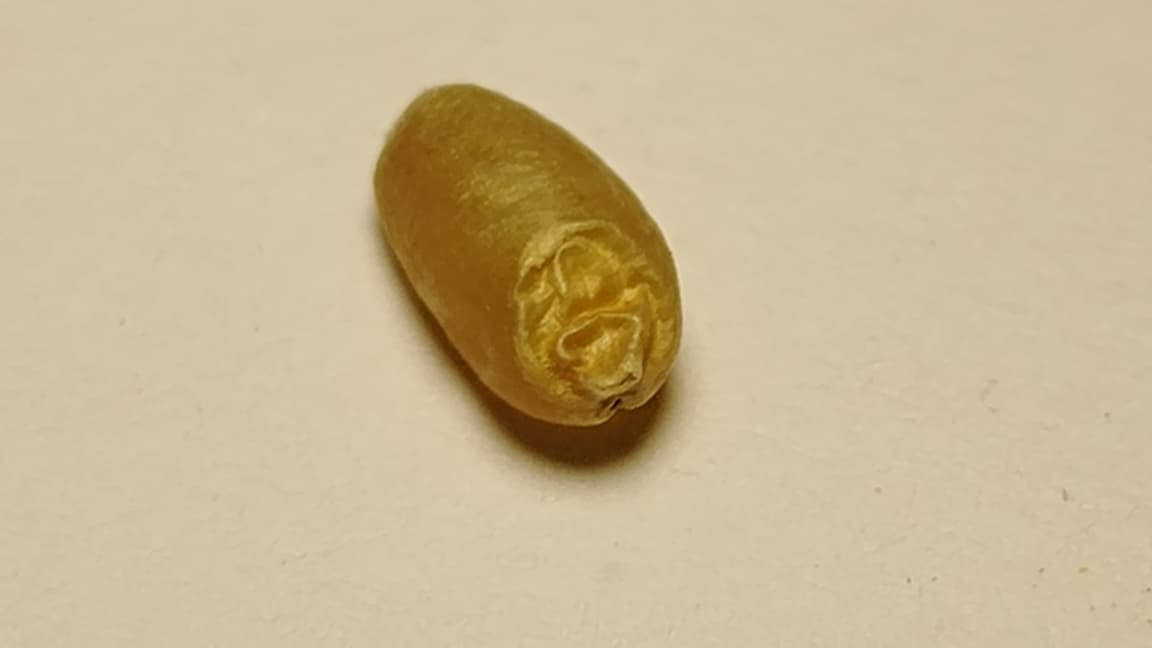healthy: (374, 85, 683, 426)
